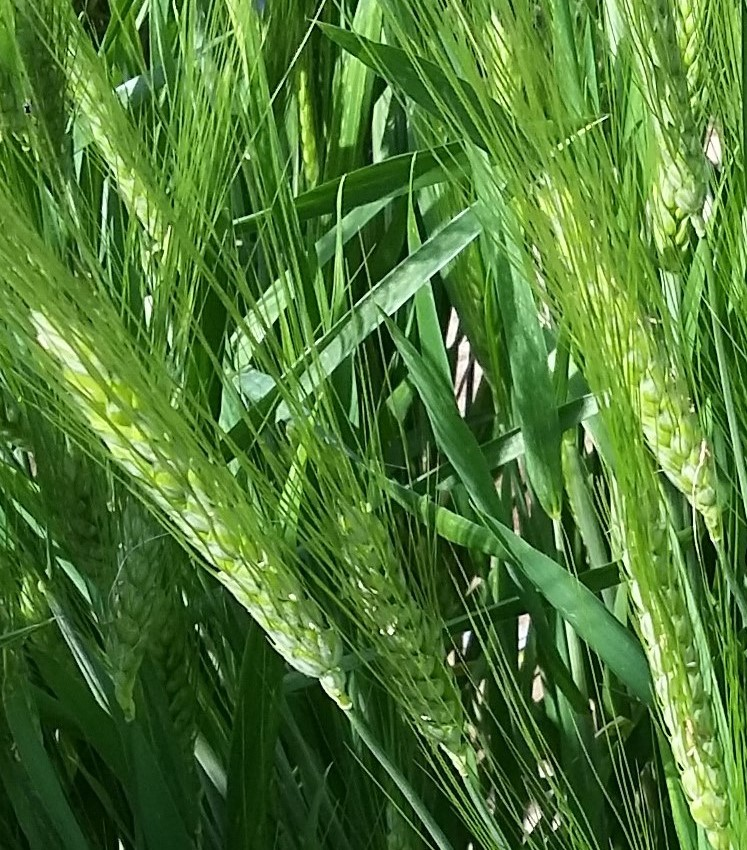Healthy Wheat: (536, 168, 747, 815), (30, 304, 341, 681)
